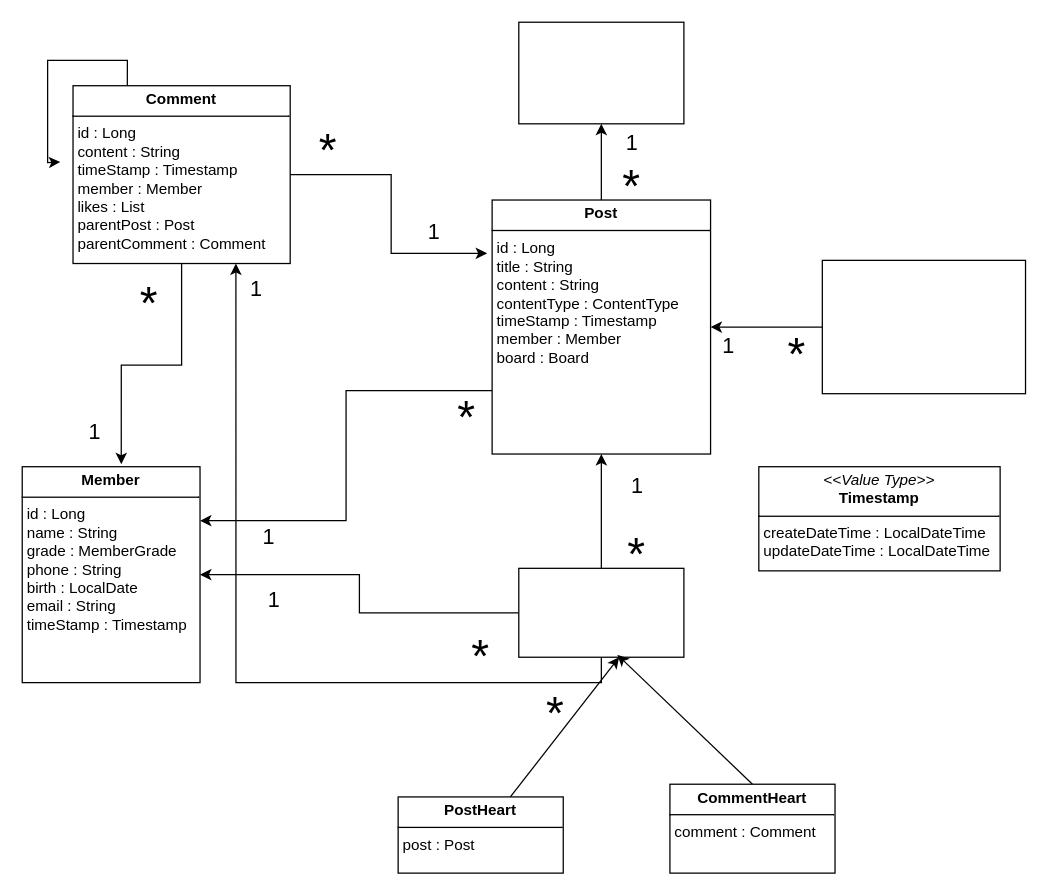
Image size: 1048x895. Some labels were removed from this diagram. The box of each missing label's shape, as (x1, y1, x2, y2) in pixels:
Attachment id : Long url : String size : Long timeStamp : Timestamp post : Post: (821, 259, 1026, 394)
Board id : Long name : String description : String: (518, 21, 684, 124)
Heart id : Long member : Member: (518, 567, 684, 657)
